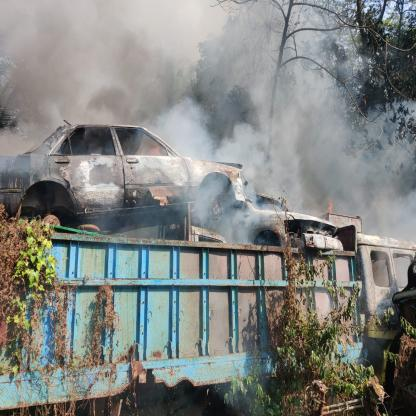Smoke: (0, 0, 416, 263)
